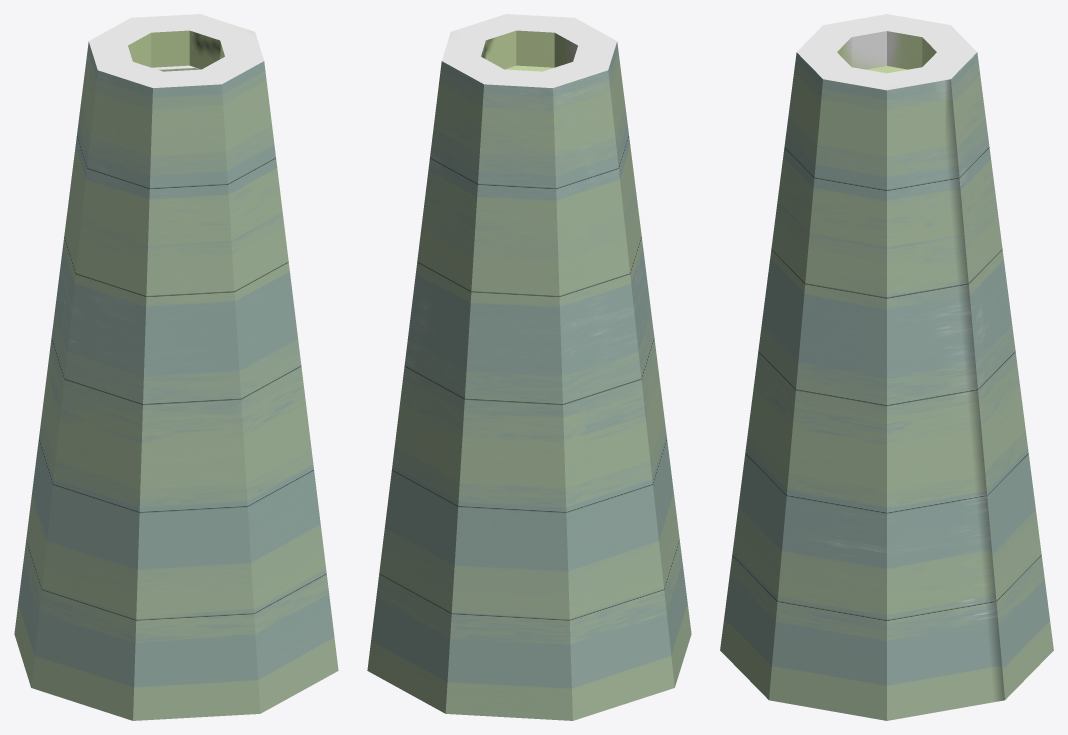
Rendered from Chimny3.fbx.
3 views of the same model, side by side, from view 1: azimuth 30°, elevation 25°; view 2: azimuth 150°, elevation 25°; view 3: azimuth 270°, elevation 25° (orthographic).
Parts seen in each view (by area): view 1: Chimny3; view 2: Chimny3; view 3: Chimny3.
Part boxes in pixels (x1,y1,x2,y2): Chimny3: (14,14,338,720); Chimny3: (367,14,691,720); Chimny3: (720,14,1053,720).
Size of the model in its own units: 23.18 by 45.82 by 23.18.
